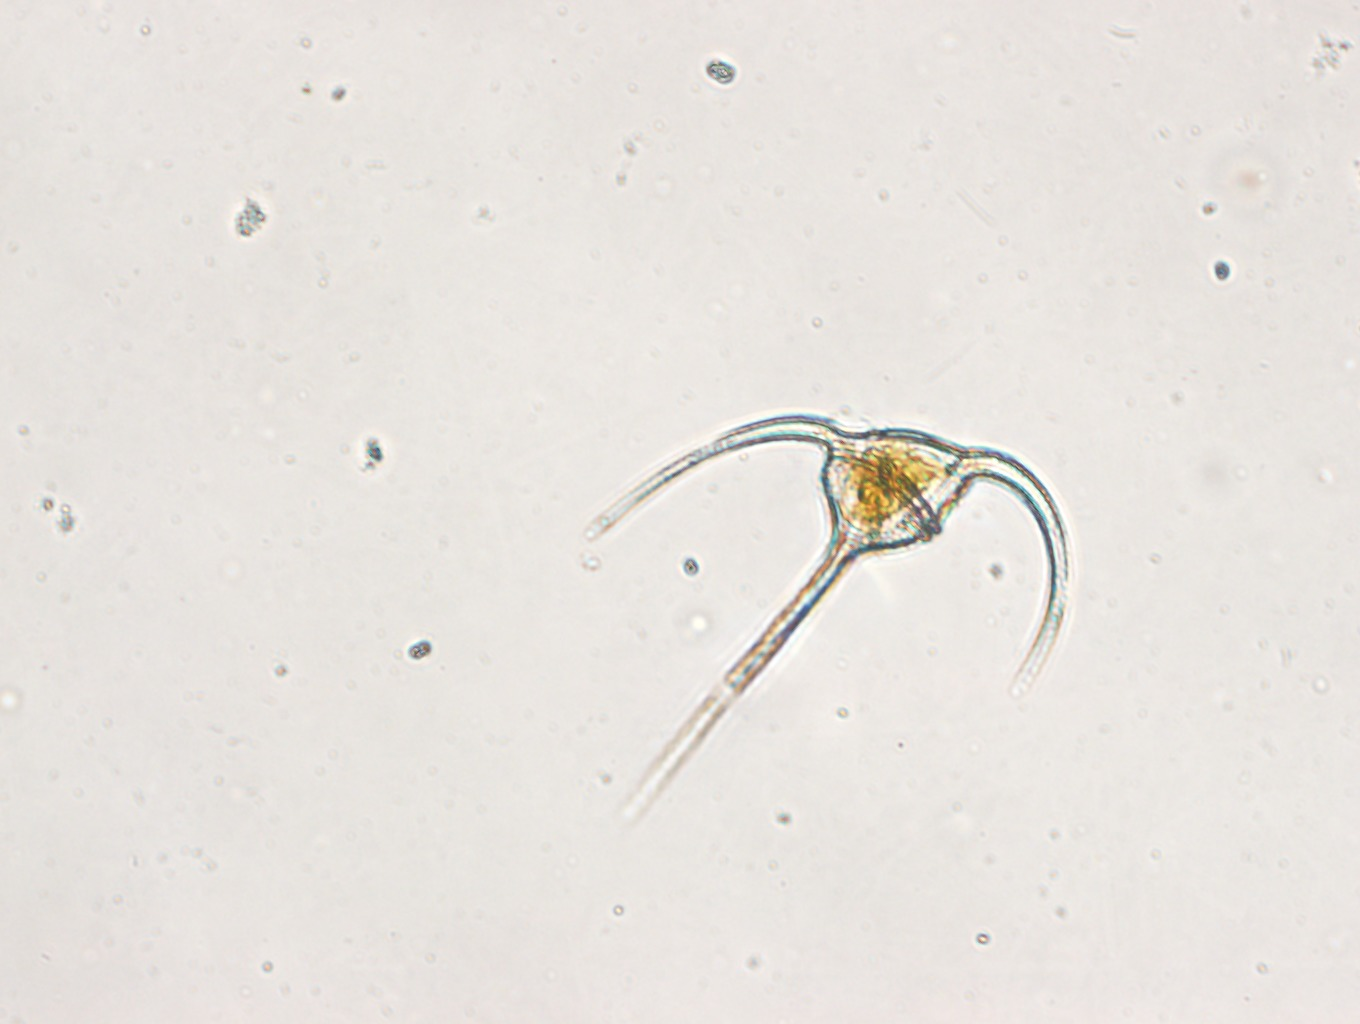ceratium trichoceros: (553, 393, 1077, 825)
